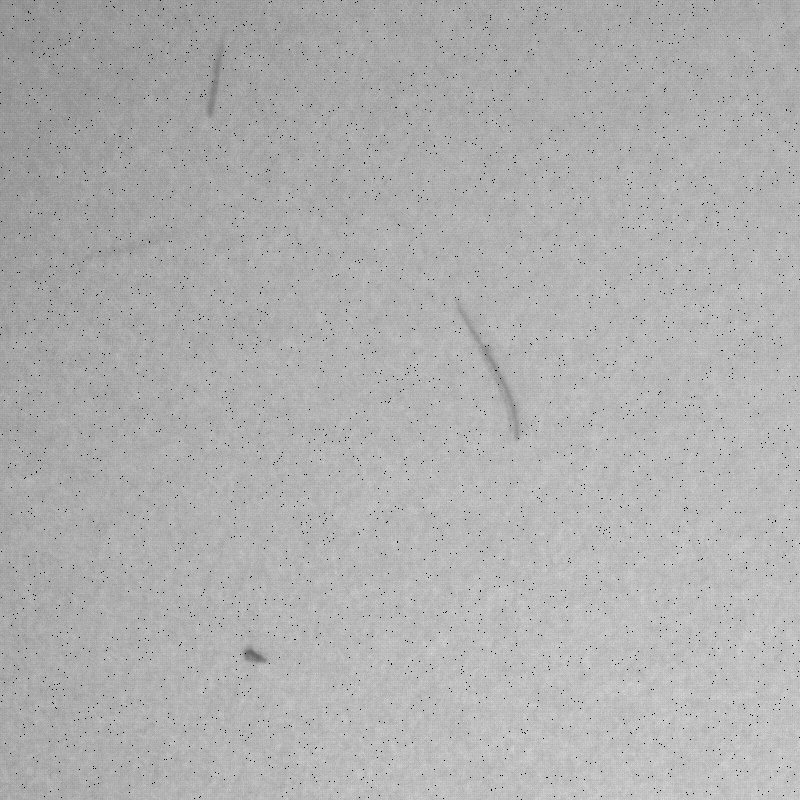defect: (446, 293, 529, 446), (205, 25, 231, 126), (235, 645, 273, 669)
